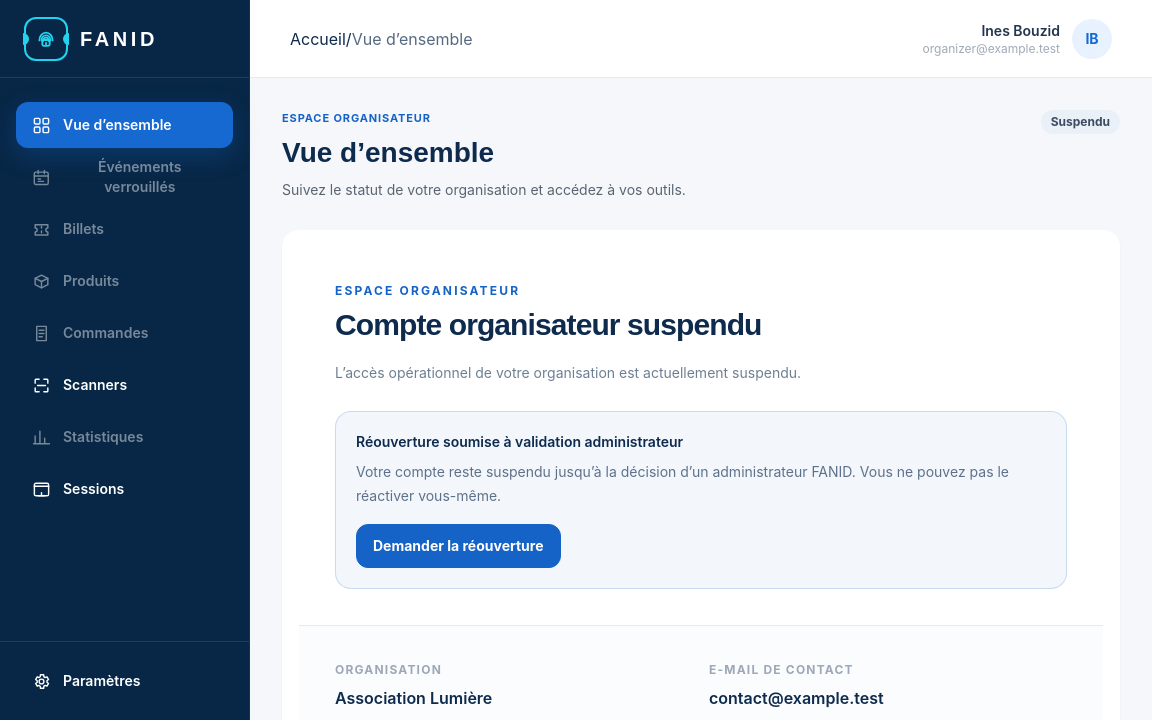
Test case: permet à un organisateur suspendu de demander la réouverture sans se réactiver lui-même
Expected: the heading "Compte organisateur suspendu" is shown, [335,308,762,340]
Click the button "Demander la réouverture": (458, 546) [356,524,560,568]
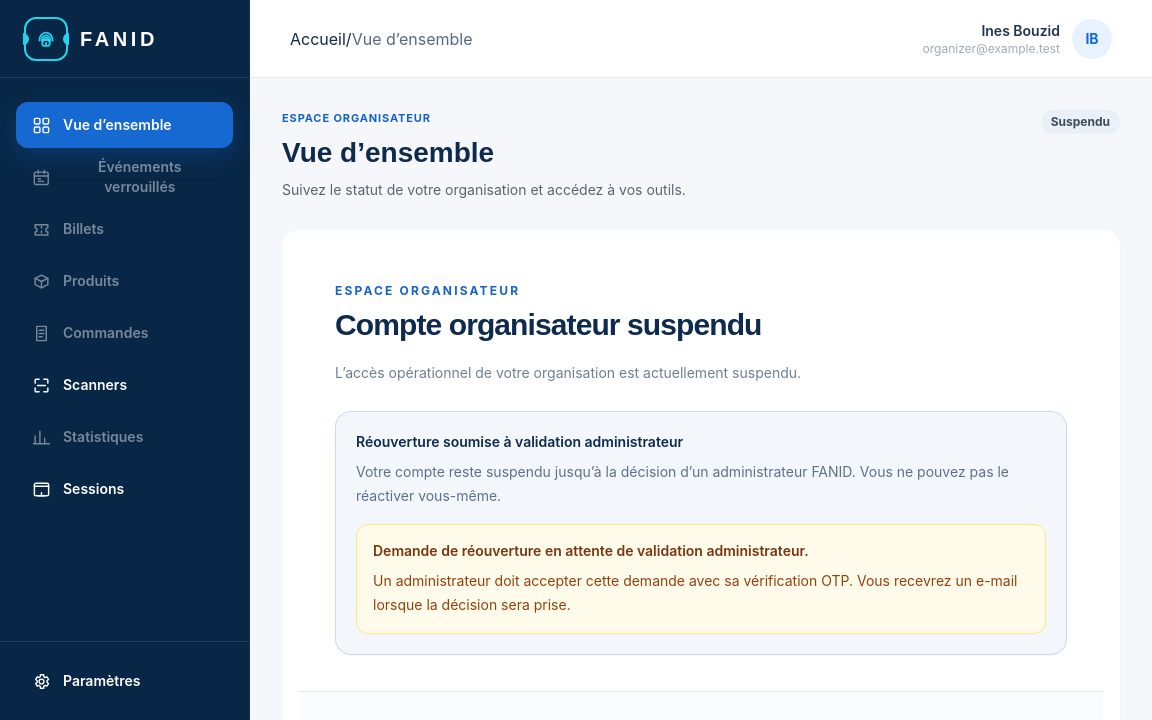
Expected: the heading "Compte organisateur suspendu" is shown, [335,308,762,340]
Expected: the text "Demande de réouverture en attente de validation administrateur." is shown, [373,542,809,558]
